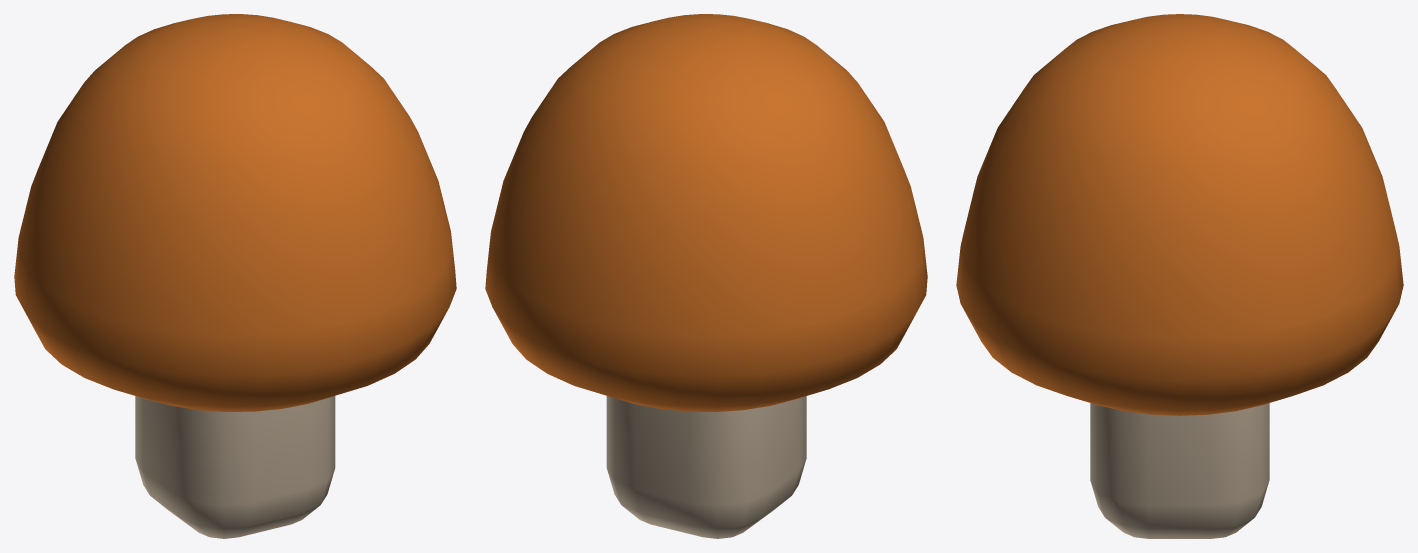
File: shroom1.FBX
The picture shows the model from 3 angles, left to right: view 1: azimuth 30°, elevation 25°; view 2: azimuth 150°, elevation 25°; view 3: azimuth 270°, elevation 25°; orthographic projection.
Parts seen in each view (by area): view 1: Sphere001; view 2: Sphere001; view 3: Sphere001.
Boxes of the visible parts, bbox=[...] form: Sphere001: bbox=[14, 14, 456, 538]; Sphere001: bbox=[485, 14, 927, 538]; Sphere001: bbox=[956, 14, 1403, 538].
Size of the model in its own units: 37.44 by 44.89 by 37.44.
